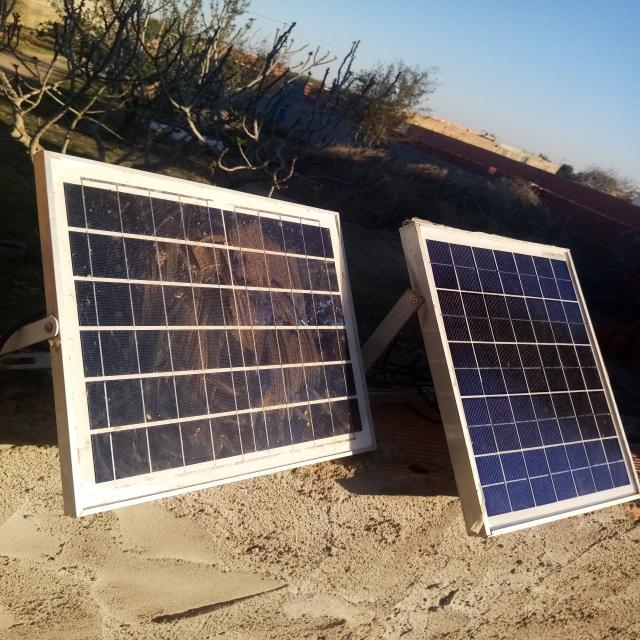faulty: (47, 155, 377, 515)
no faulty: (421, 226, 640, 534)
